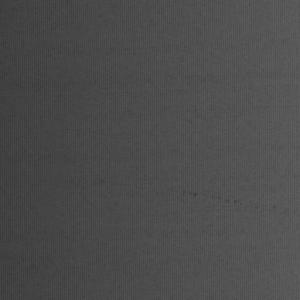Stain: (92, 173, 300, 225)
Wrinkle: (1, 67, 300, 107)
